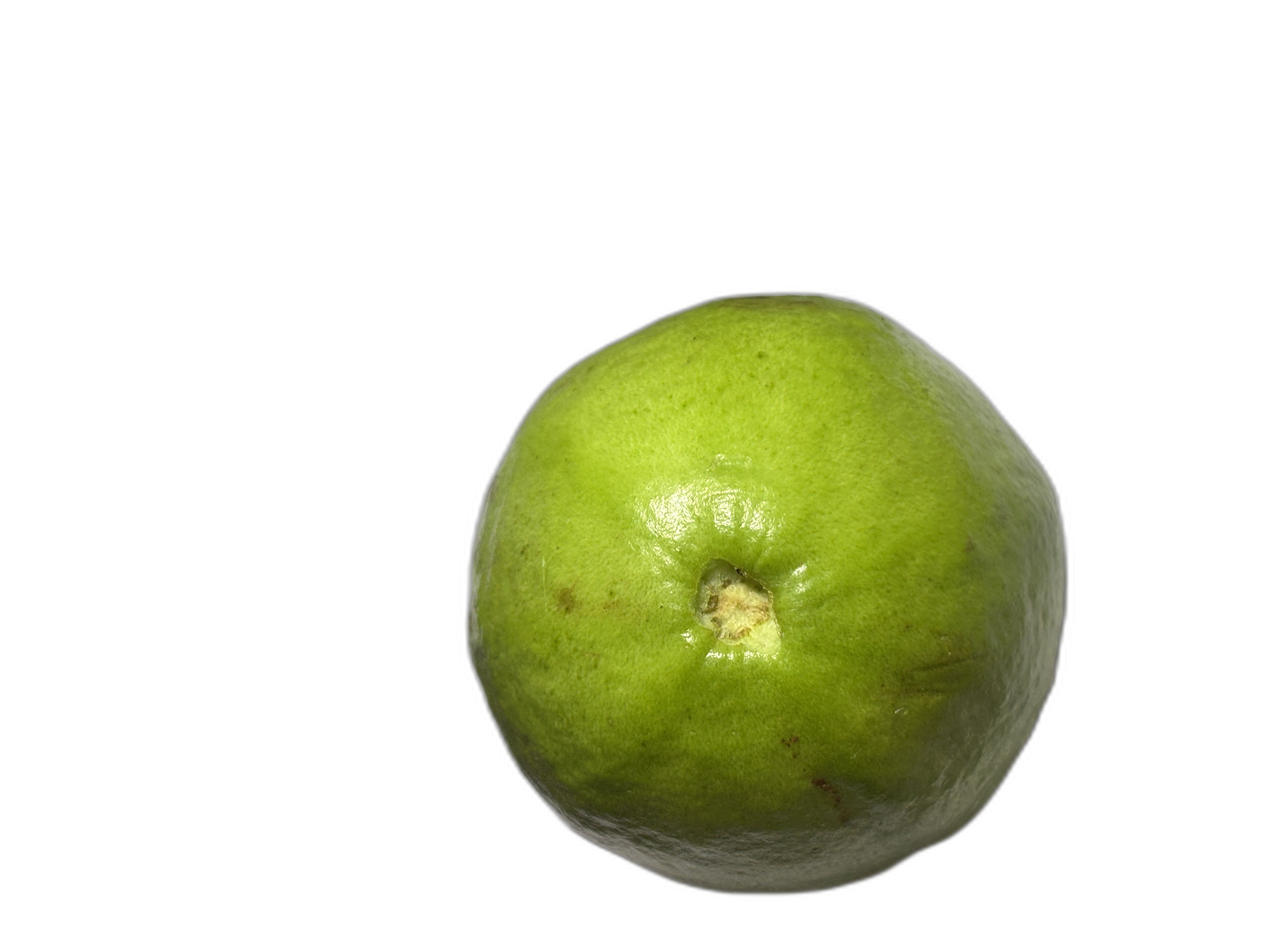guava: (117, 102, 1064, 833)
